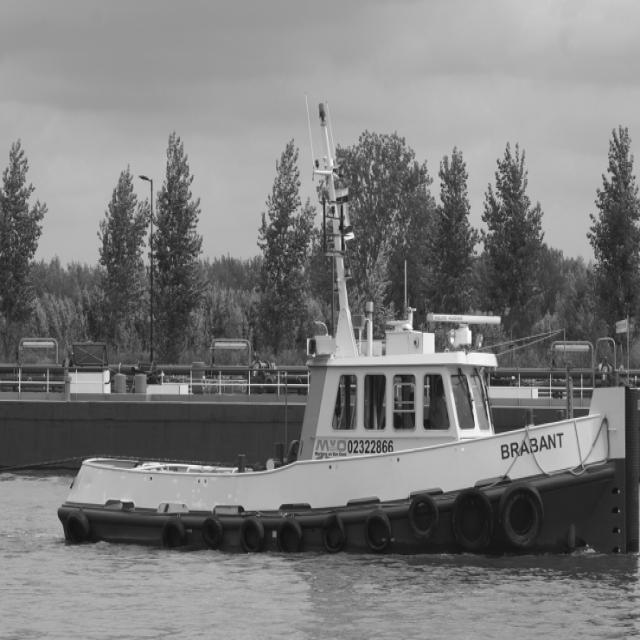tugboat: (51, 99, 640, 570)
